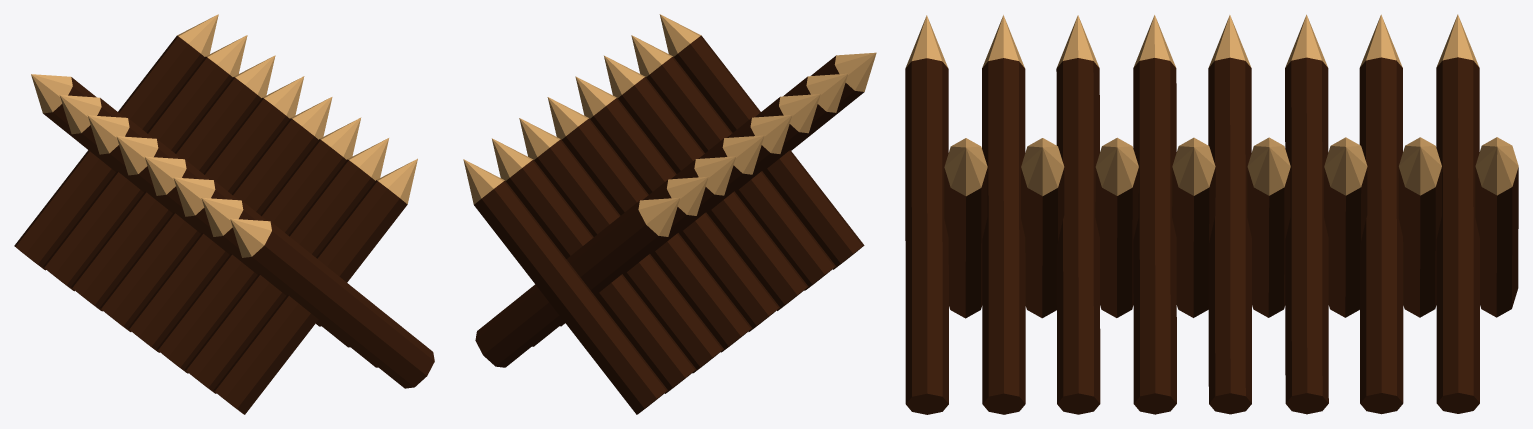
The model's file is barricade.fbx.
The picture shows the model from 3 angles, left to right: view 1: azimuth 30°, elevation 25°; view 2: azimuth 150°, elevation 25°; view 3: azimuth 270°, elevation 25°; orthographic projection. The views are drawn at different scales.
Parts seen in each view (by area): view 1: Decoration.001; view 2: Decoration.001; view 3: Decoration.001.
Boxes of the visible parts, <box> form: Decoration.001: <box>14,14,434,414</box>; Decoration.001: <box>463,14,876,414</box>; Decoration.001: <box>905,14,1518,414</box>.
Size of the model in its own units: 77.32 by 76.52 by 149.
